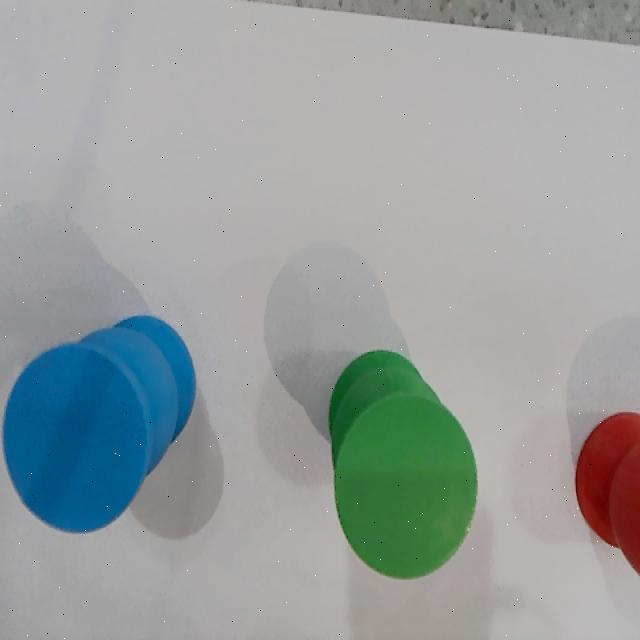b: (3, 341, 148, 534)
g: (334, 392, 478, 580)
